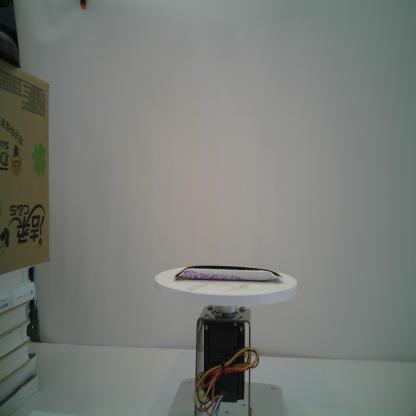Chocolate: (173, 262, 283, 284)
